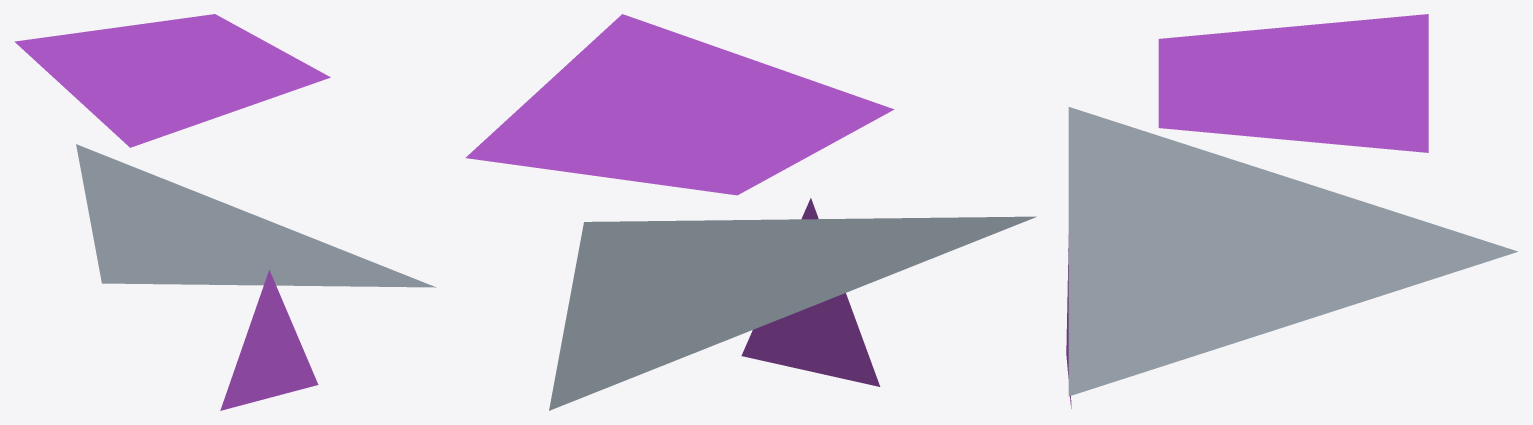
Rendered from CH_TechCenter_LOD2.glb.
3 views of the same model, side by side, from view 1: azimuth 30°, elevation 25°; view 2: azimuth 150°, elevation 25°; view 3: azimuth 270°, elevation 25° (orthographic). The views are drawn at different scales.
Visible parts, largest first — view 1: EntranceGate; view 2: EntranceGate; view 3: EntranceGate.
Boxes of the visible parts, <box> form: EntranceGate: <box>14,14,436,410</box>; EntranceGate: <box>465,14,1036,410</box>; EntranceGate: <box>1066,14,1517,408</box>.
Bounding box in the file's own units: 600 × 458 × 603.
